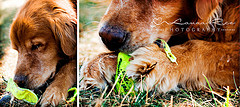tennis ball: (113, 49, 141, 100), (10, 85, 41, 103)
